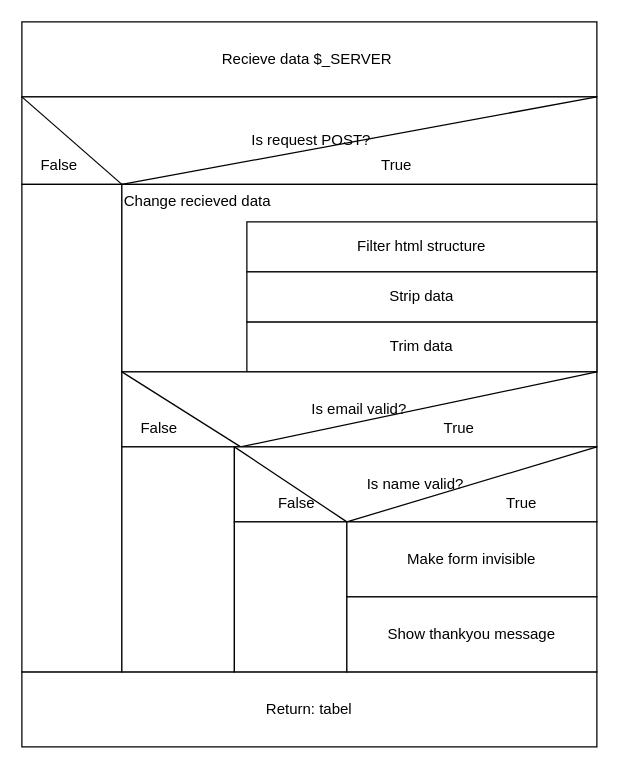
Image size: 620x769. Some labels were removed from this diagram. The shapes that lost their labels are listed below. From the top down, each one's centre as x and y in pixels, then its label:
At point (71, 427): "Show empty forms and display error".
At point (177, 559): "display Email not correct".
At point (290, 596): "display name not filled in".
